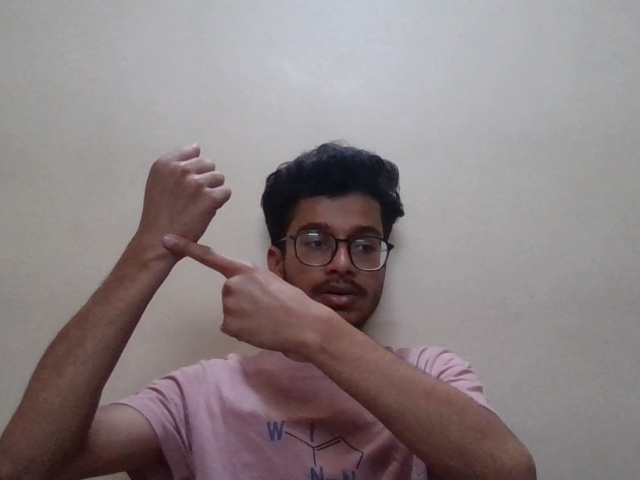time: (128, 130, 296, 364)
